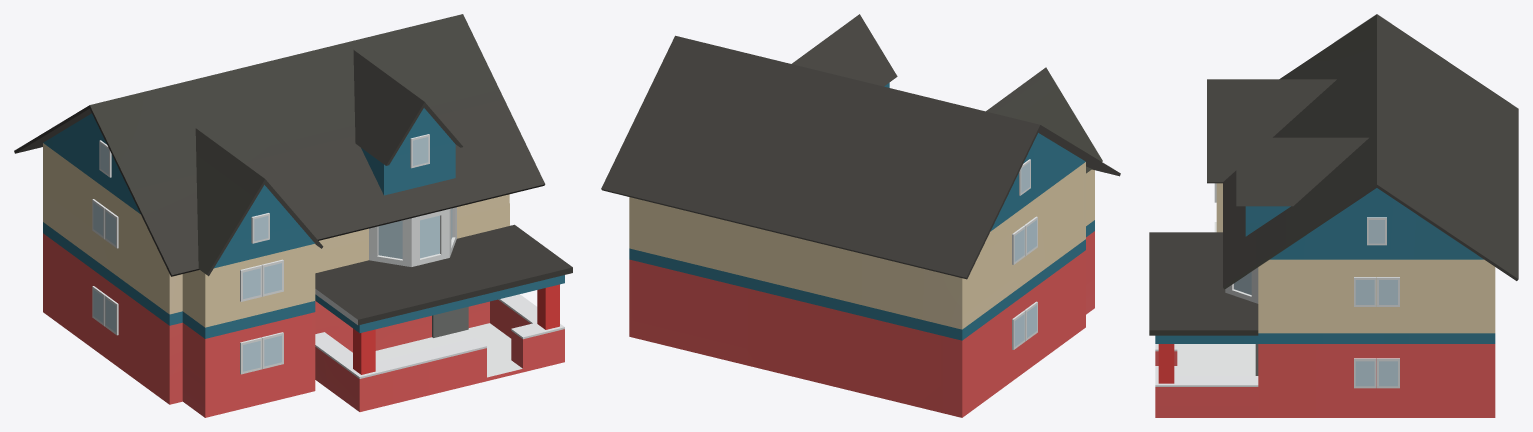
Rendered from city_building_9.glb.
3 renders of one model, left to right at view 1: azimuth 30°, elevation 25°; view 2: azimuth 150°, elevation 25°; view 3: azimuth 270°, elevation 25°, orthographic. The views are drawn at different scales.
Visible parts, largest first — view 1: Building_1; view 2: Building_1; view 3: Building_1.
Part boxes in pixels (left/top/right/bottom): Building_1: left=14, top=14, right=572, bottom=417; Building_1: left=601, top=14, right=1120, bottom=417; Building_1: left=1149, top=14, right=1518, bottom=417.
Bounding box in the file's own units: 4.24 × 2.79 × 3.88.
1 material, 1 textured.
